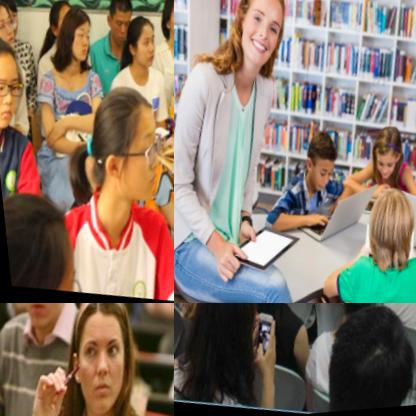head: (72, 82, 174, 210), (308, 303, 416, 415), (48, 303, 143, 416), (174, 303, 262, 394), (351, 184, 416, 276), (225, 0, 295, 76), (291, 130, 343, 201), (3, 303, 83, 339), (0, 36, 27, 130), (50, 4, 92, 63), (362, 125, 402, 186), (115, 13, 158, 69), (93, 0, 131, 46), (39, 0, 72, 41), (324, 303, 382, 321), (153, 0, 174, 42)
